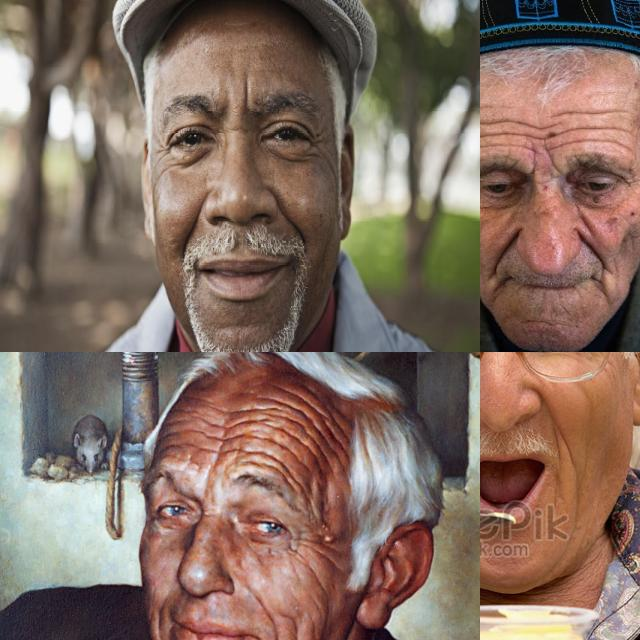chin: (521, 316, 551, 330)
crows_feet: (287, 524, 327, 570), (153, 140, 173, 172), (306, 129, 324, 162)
forehead: (180, 407, 218, 461), (276, 380, 322, 424), (259, 432, 301, 478), (222, 401, 256, 454), (312, 426, 348, 466), (582, 122, 616, 148), (514, 116, 544, 144), (588, 102, 626, 122), (480, 114, 508, 139), (550, 126, 578, 150), (554, 102, 582, 122), (480, 139, 510, 154)
frown_line: (542, 150, 564, 177), (526, 150, 542, 178), (242, 79, 253, 114)
gummy_smile: (541, 400, 573, 452), (252, 594, 280, 638), (279, 206, 311, 244), (150, 596, 171, 640), (580, 232, 606, 264), (493, 232, 517, 264), (184, 211, 202, 248)
masseter: (275, 619, 310, 640)
